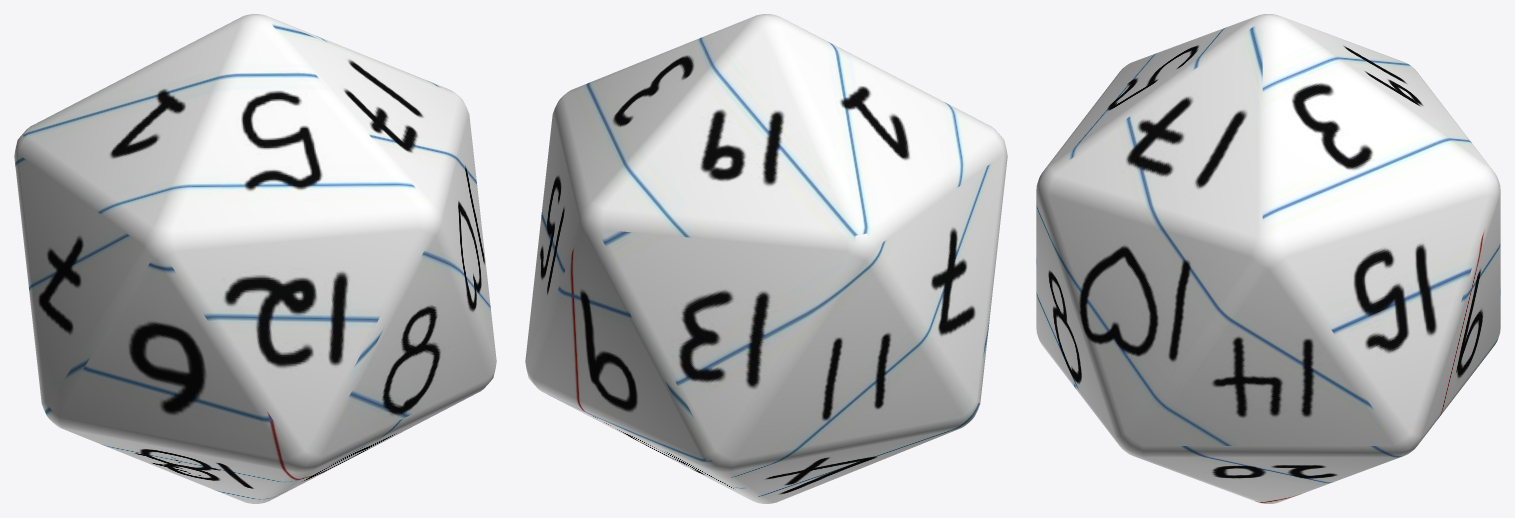
File: dice20.glb
The picture shows the model from 3 angles, left to right: view 1: azimuth 30°, elevation 25°; view 2: azimuth 150°, elevation 25°; view 3: azimuth 270°, elevation 25°; orthographic projection.
Parts seen in each view (by area): view 1: Icosphere; view 2: Icosphere; view 3: Icosphere.
Part boxes in pixels (<box>): Icosphere: <box>14,14,496,503</box>; Icosphere: <box>525,14,1007,503</box>; Icosphere: <box>1036,14,1500,503</box>.
Size of the model in its own units: 1.76 by 1.94 by 1.68.
Materials: 1 (1 with a texture image).
